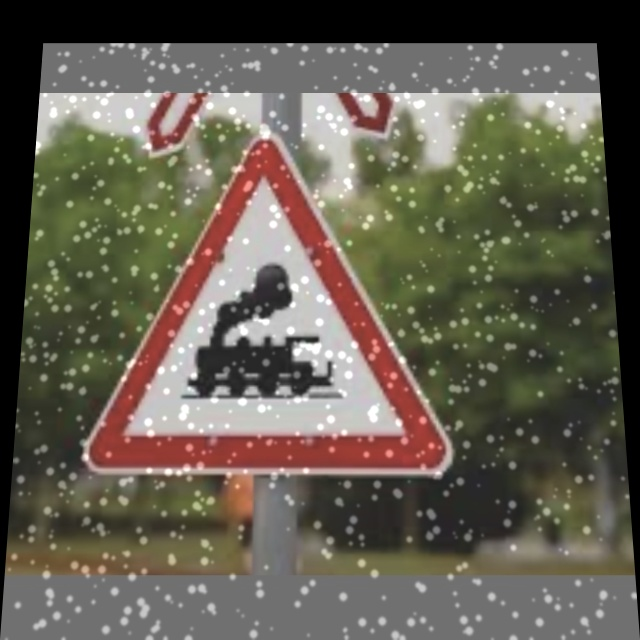Unguarded_Level_Crossing: (68, 145, 475, 482)
